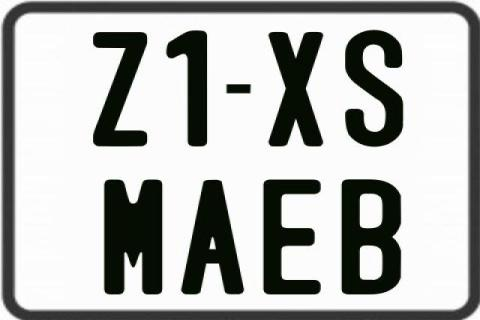0: (163, 28, 207, 147)
A: (178, 180, 244, 295)
B: (339, 178, 403, 294)
E: (262, 180, 326, 298)
M: (102, 178, 162, 294)
S: (344, 29, 406, 148)
X: (269, 31, 327, 151)
Z: (91, 32, 149, 148)
